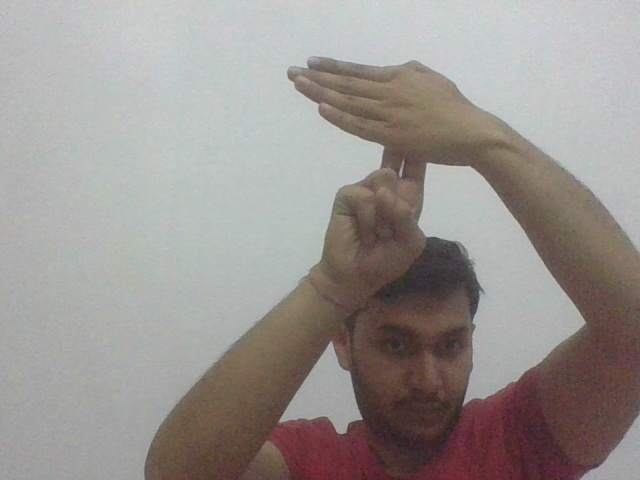N: (285, 50, 470, 182)
